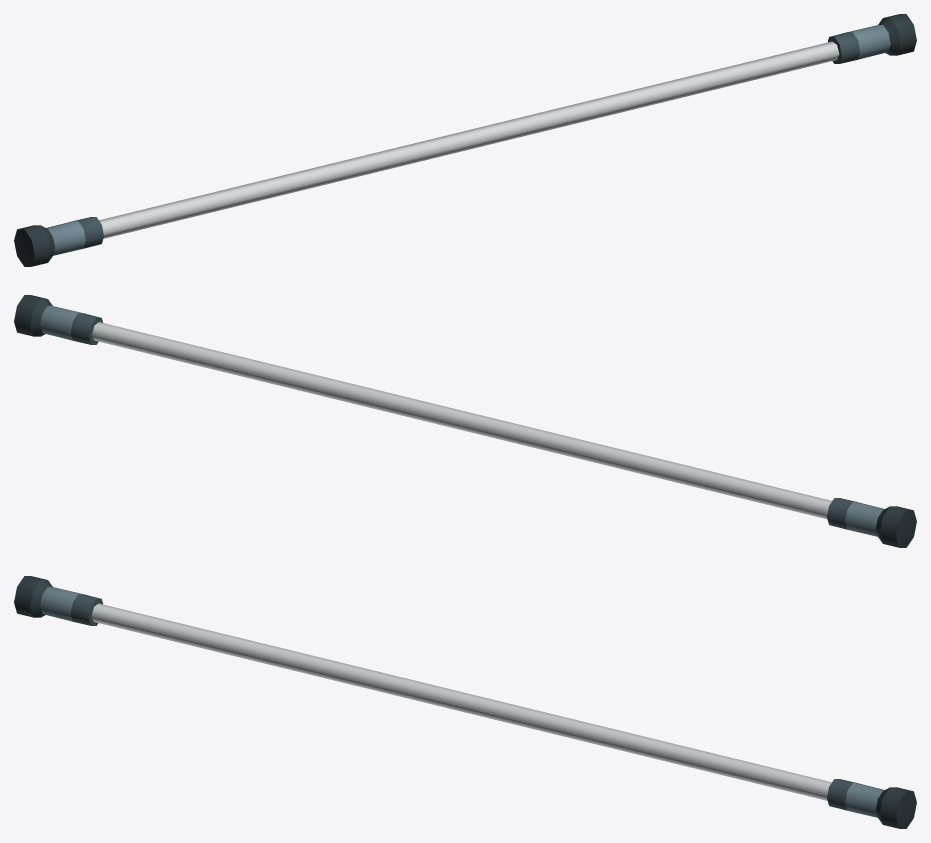
Rendered from Cable_type_B_012.fbx.
3 renders of one model, top to bottom at view 1: azimuth 30°, elevation 25°; view 2: azimuth 150°, elevation 25°; view 3: azimuth 330°, elevation 25°, orthographic.
Visible parts, largest first — view 1: Cable_type_B_012; view 2: Cable_type_B_012; view 3: Cable_type_B_012.
Boxes of the visible parts, x1,y1,x2,y2 form: Cable_type_B_012: (14,14,916,266); Cable_type_B_012: (14,295,916,547); Cable_type_B_012: (14,576,916,828).
Size of the model in its own units: 192 by 7.83 by 7.83.
